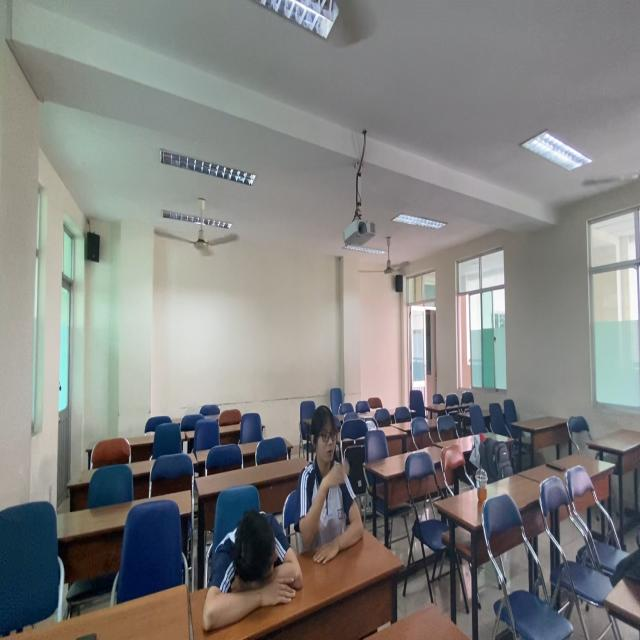sleep: (200, 510, 306, 632)
